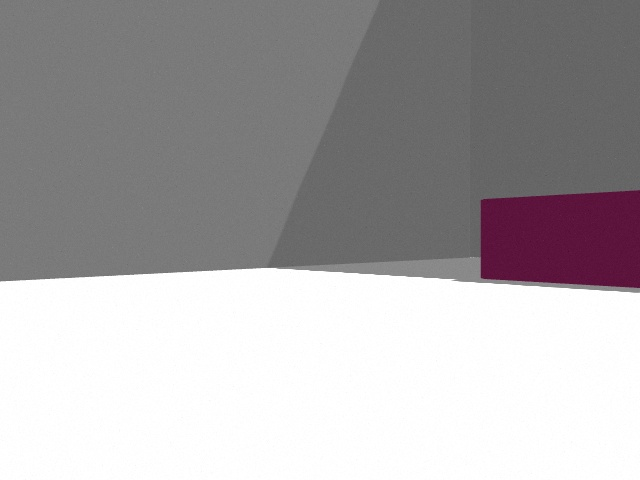red_drop_zone: (481, 190, 640, 288)
